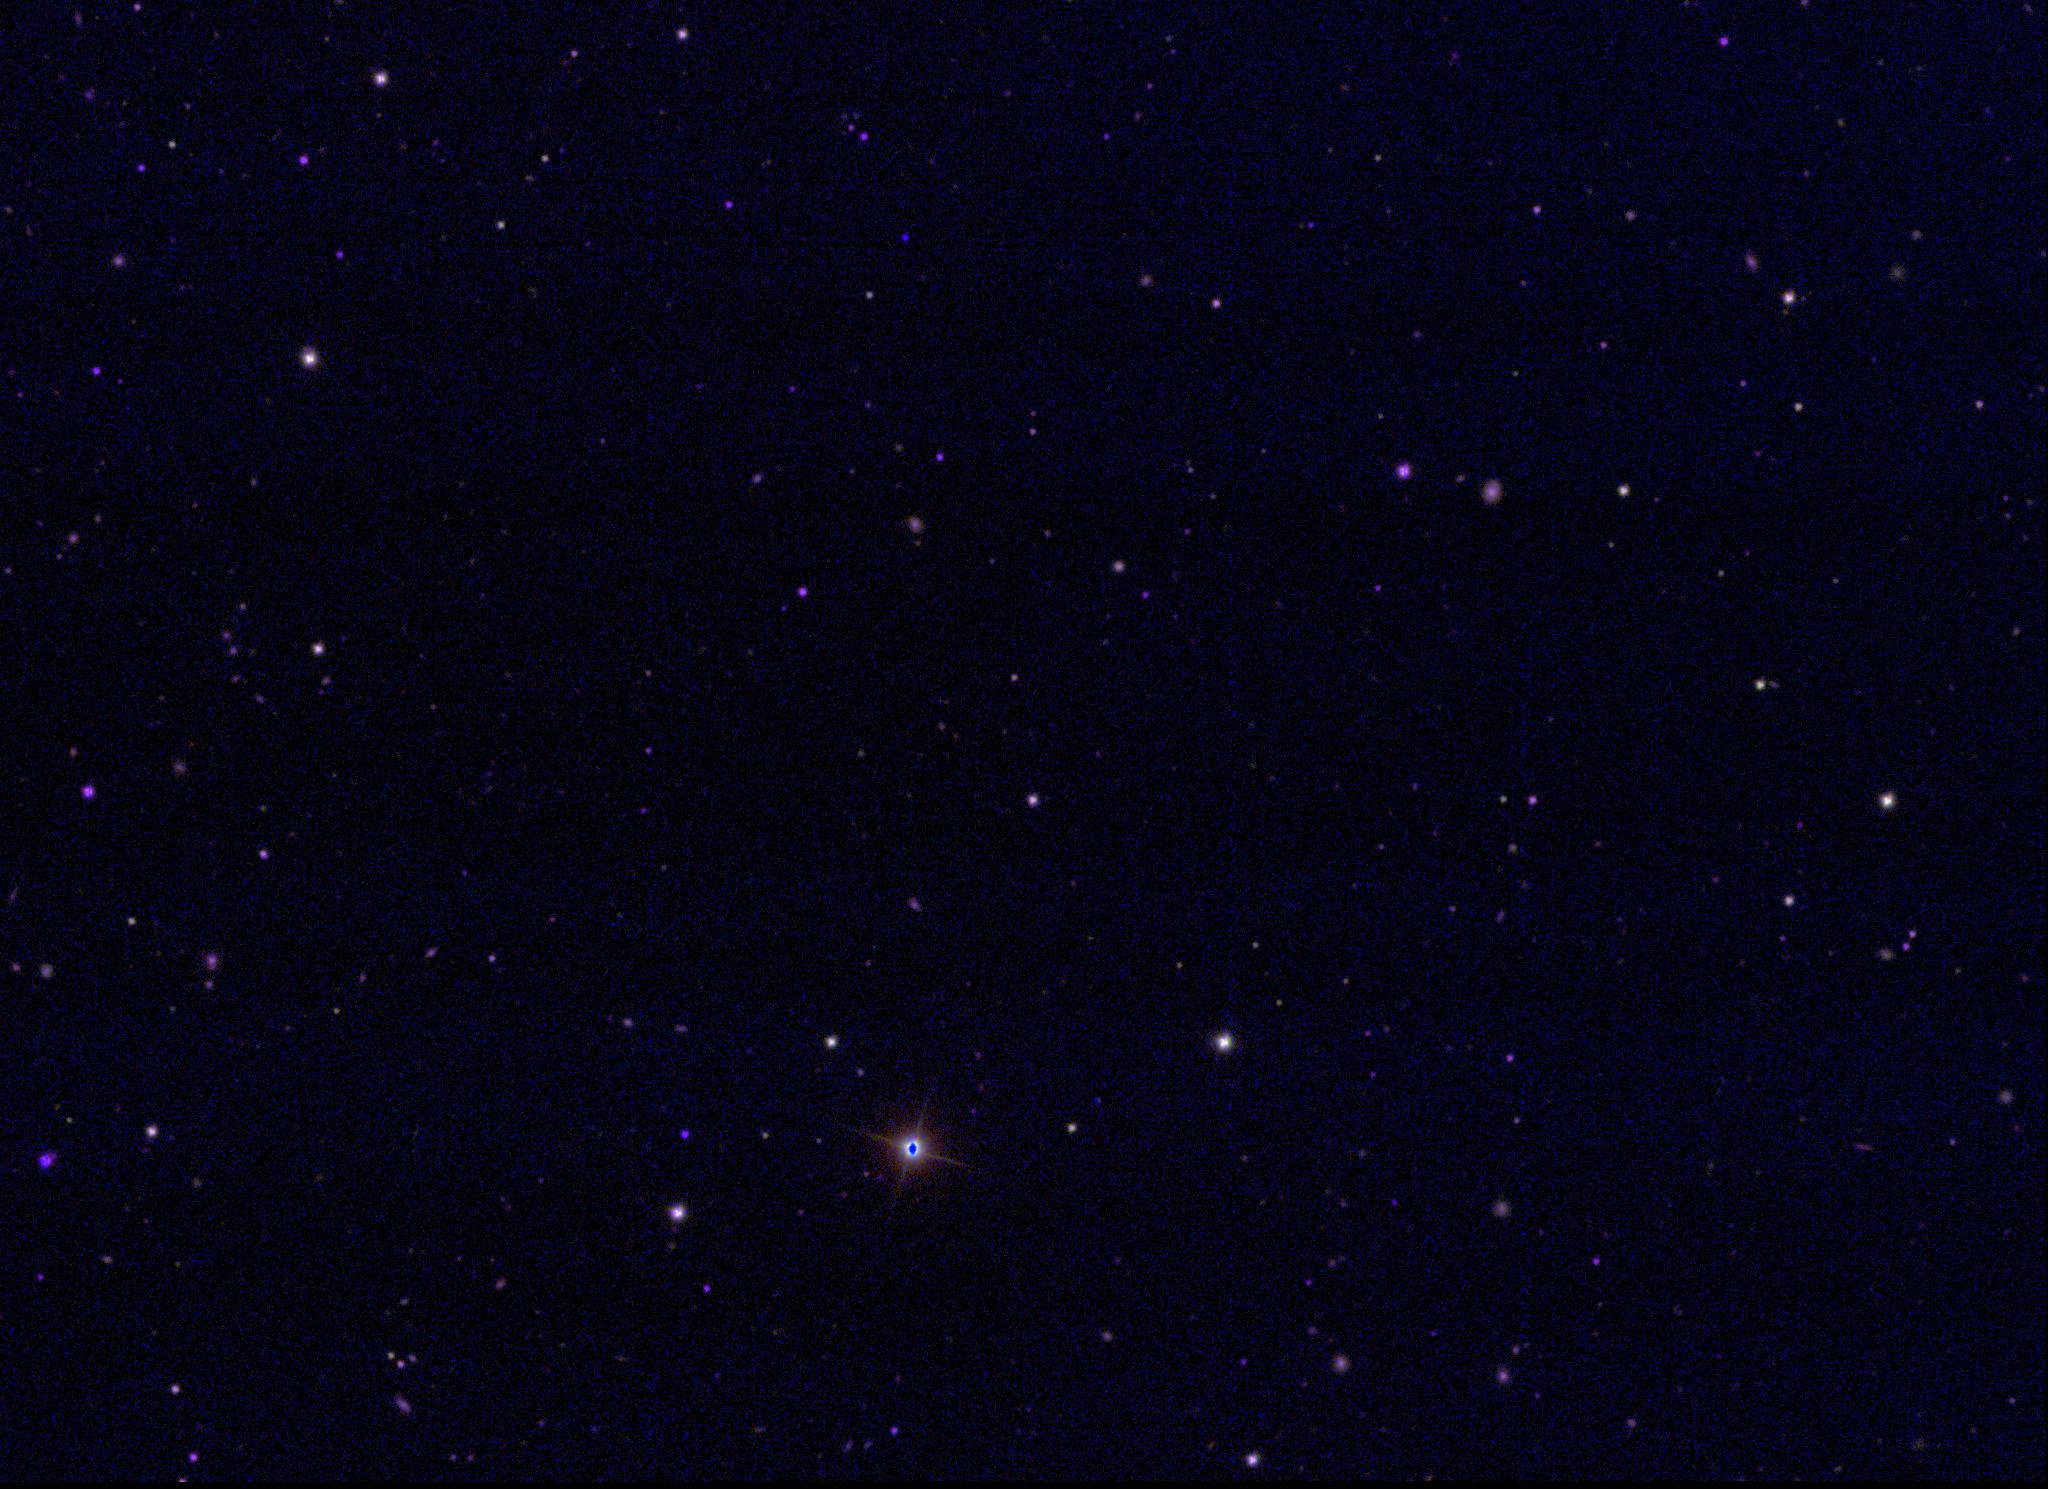L: (898, 229, 913, 243)
